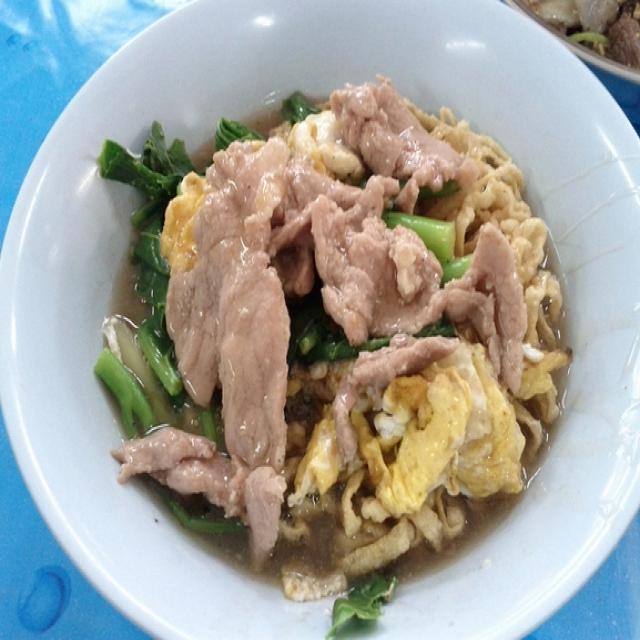面条主食: (56, 40, 604, 601)
